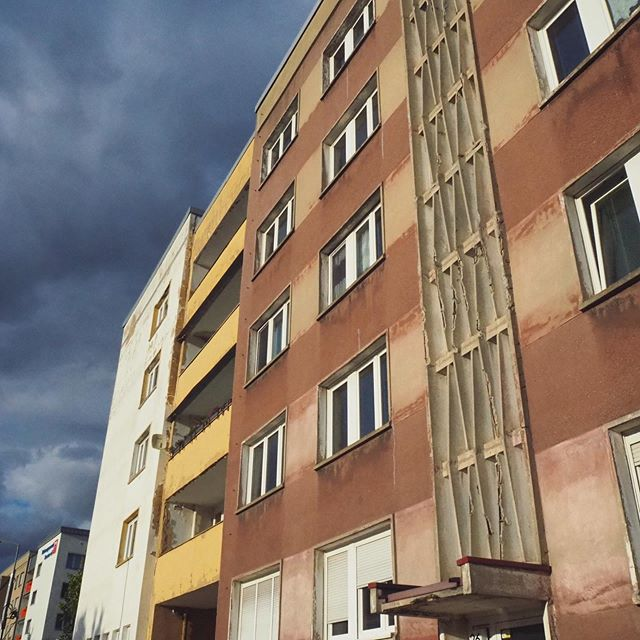building: (82, 10, 640, 634)
sky: (1, 3, 287, 503)
